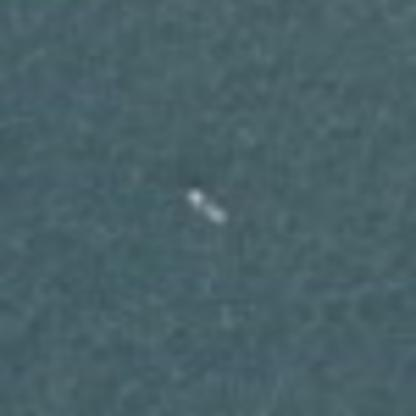ship: (179, 182, 231, 232)
